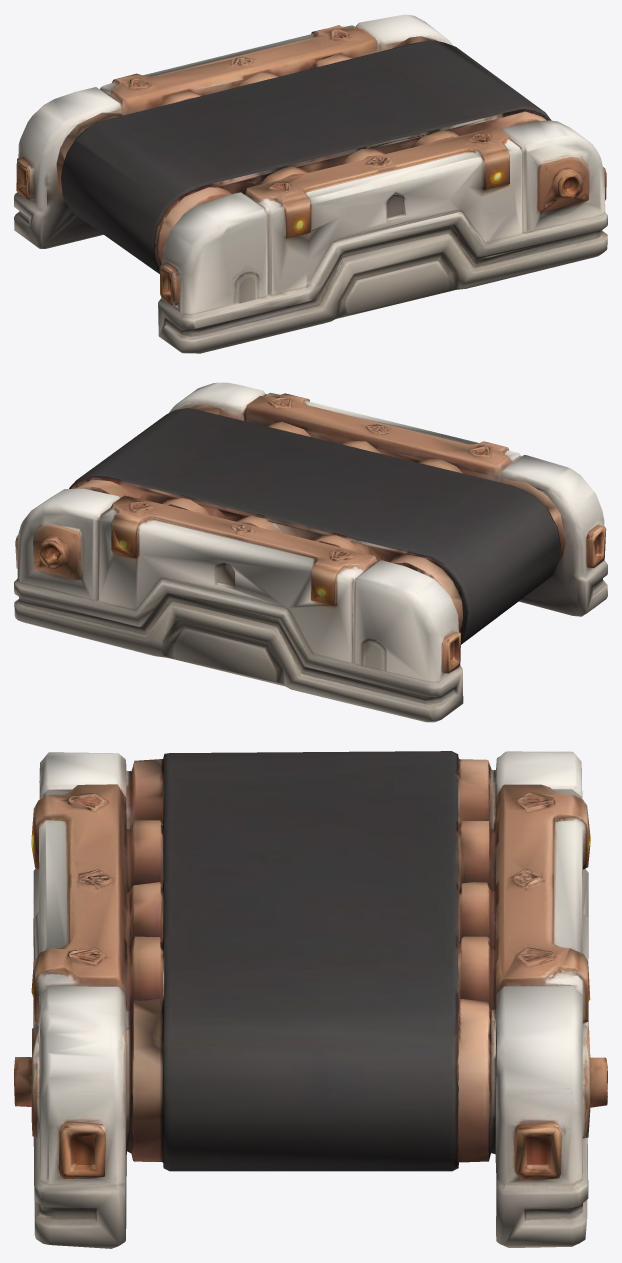
Rendered from conveyor_straight.glb.
3 views of the same model, one above another, from view 1: azimuth 30°, elevation 25°; view 2: azimuth 150°, elevation 25°; view 3: azimuth 270°, elevation 25° (orthographic). The views are drawn at different scales.
Parts seen in each view (by area): view 1: node_0; view 2: node_0; view 3: node_0.
Part boxes in pixels (x1,y1,x2,y2): node_0: [14, 14, 607, 353]; node_0: [14, 382, 607, 722]; node_0: [14, 751, 607, 1248].
Bounding box in the file's own units: 1.86 × 0.55 × 1.4.
Materials: 1 (1 with a texture image).
